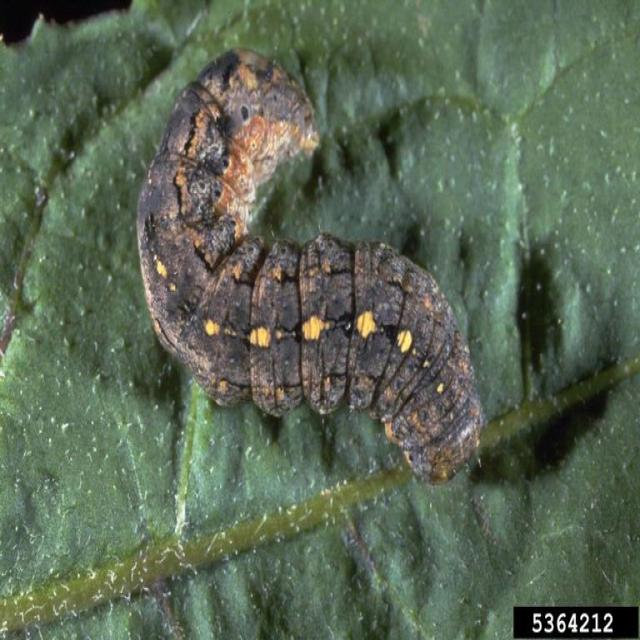Cutworm: (141, 44, 486, 499)
